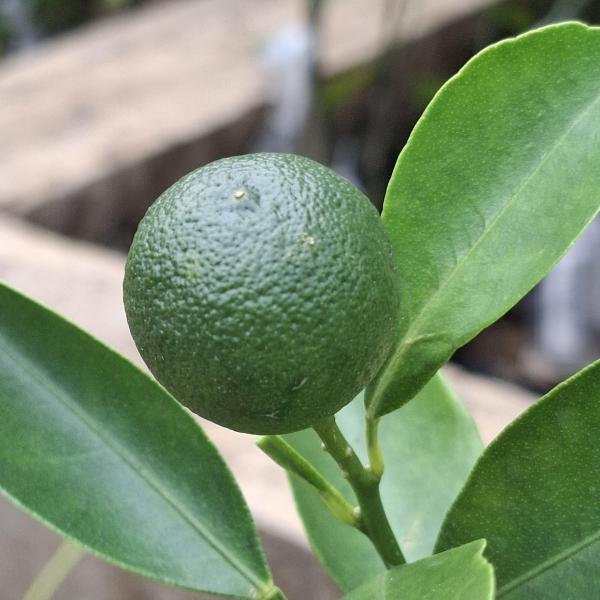Scab: (113, 147, 410, 433)
